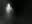person: (7, 4, 14, 19)
